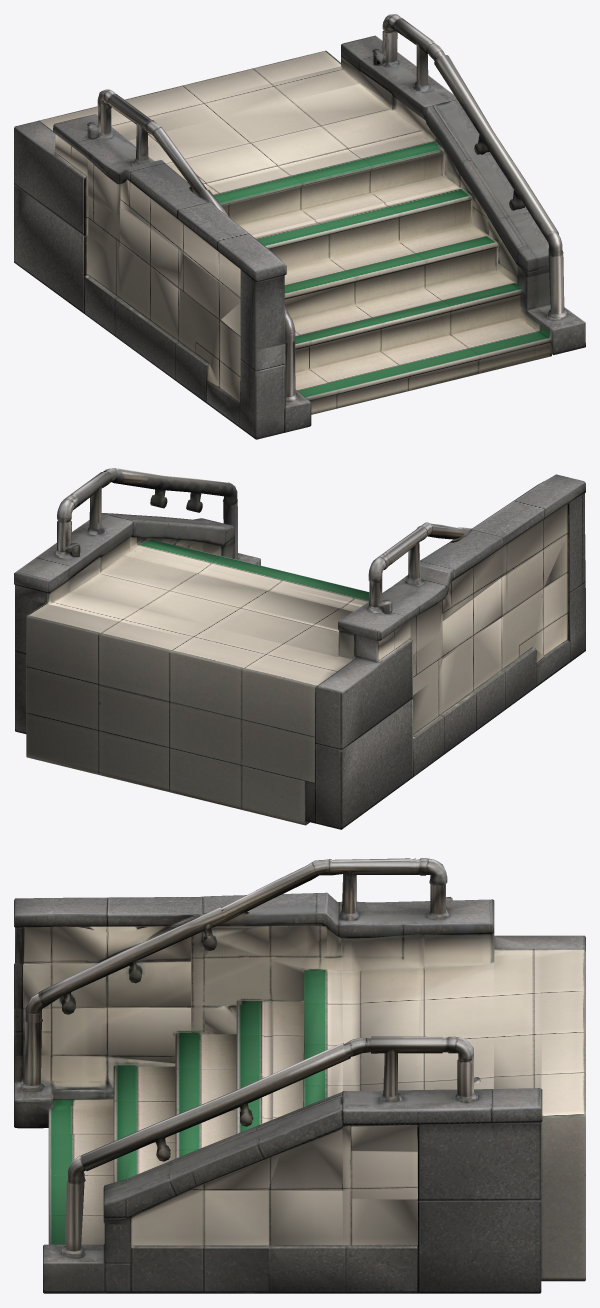
The model's file is stairs_down.fbx.
3 views of the same model, one above another, from view 1: azimuth 30°, elevation 25°; view 2: azimuth 150°, elevation 25°; view 3: azimuth 270°, elevation 25° (orthographic). The views are drawn at different scales.
Visible parts, largest first — view 1: stairs_down; view 2: stairs_down; view 3: stairs_down.
Part boxes in pixels (x1=…): stairs_down: x1=14, y1=14, x2=585, y2=439; stairs_down: x1=14, y1=468, x2=585, y2=829; stairs_down: x1=14, y1=858, x2=585, y2=1293.
Size of the model in its own units: 3.28 by 2 by 4.
